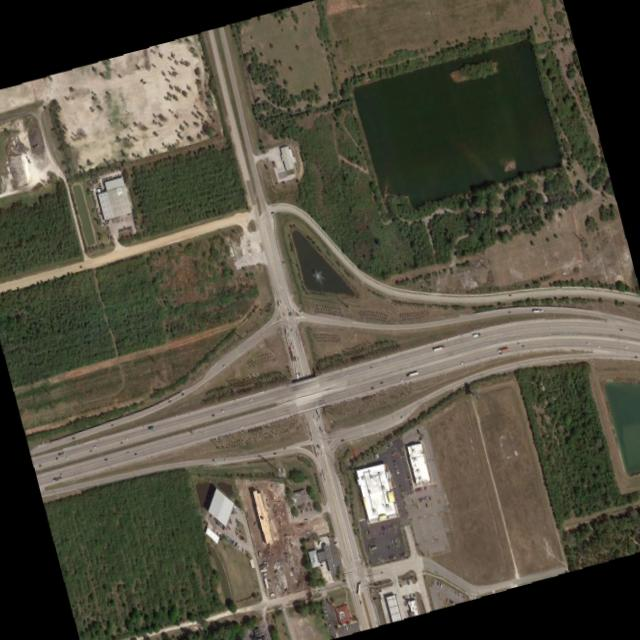large-vehicle: (433, 345, 445, 352), (289, 346, 294, 362), (497, 347, 508, 353), (406, 372, 418, 377), (472, 332, 480, 338), (533, 310, 543, 313)
